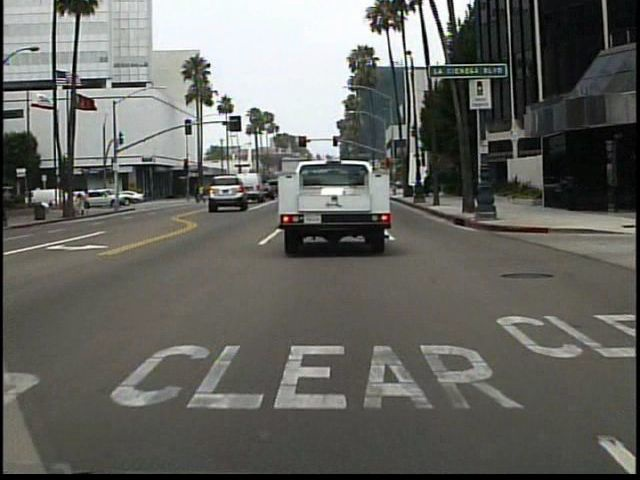person: (81, 187, 95, 212)
